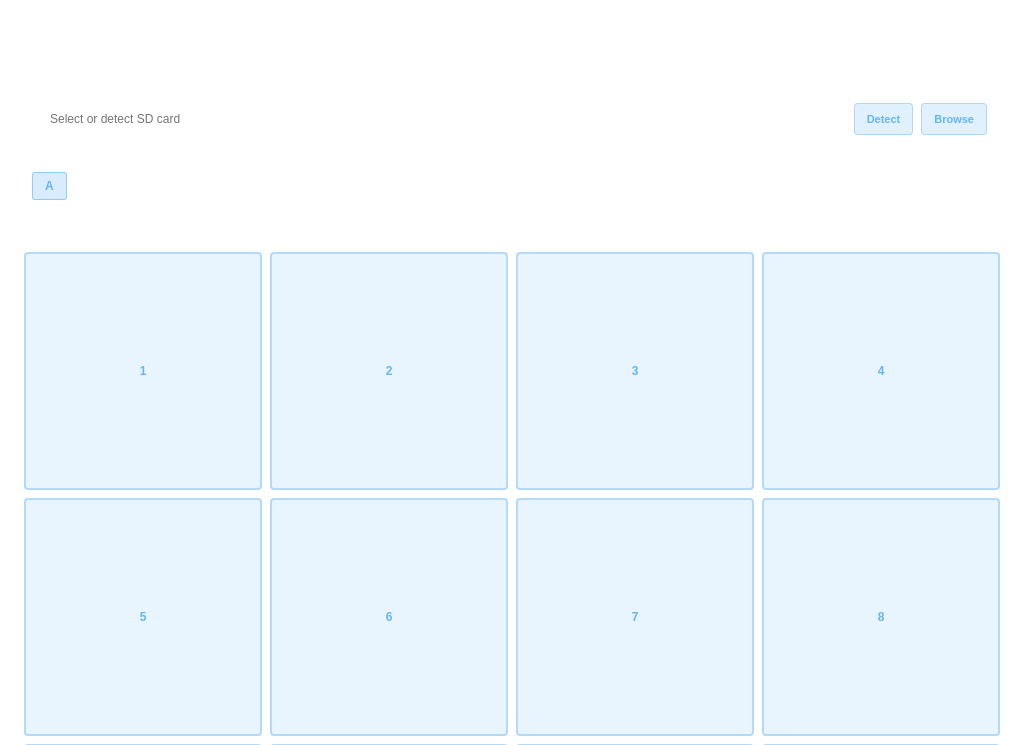
it: SP404KitBuilder Component › Pad Interactions › clicking asset in picker assigns sample to pad
What coordinates should you click on to do the following:
click the button with test id "pad-A-1"
I would click on:
 (143, 371)
Its box is [24,252,262,490].
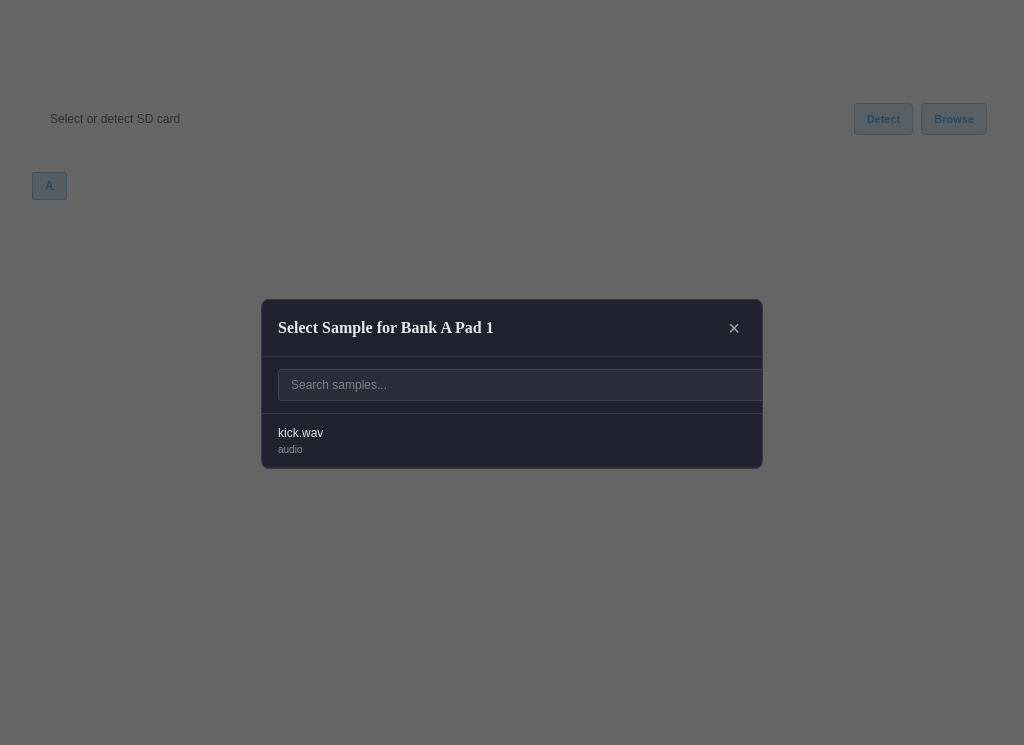
What coordinates should you click on to do the following:
click the button with class "sample-item"
I would click on:
 (301, 433)
Its box is [262,414,762,468].
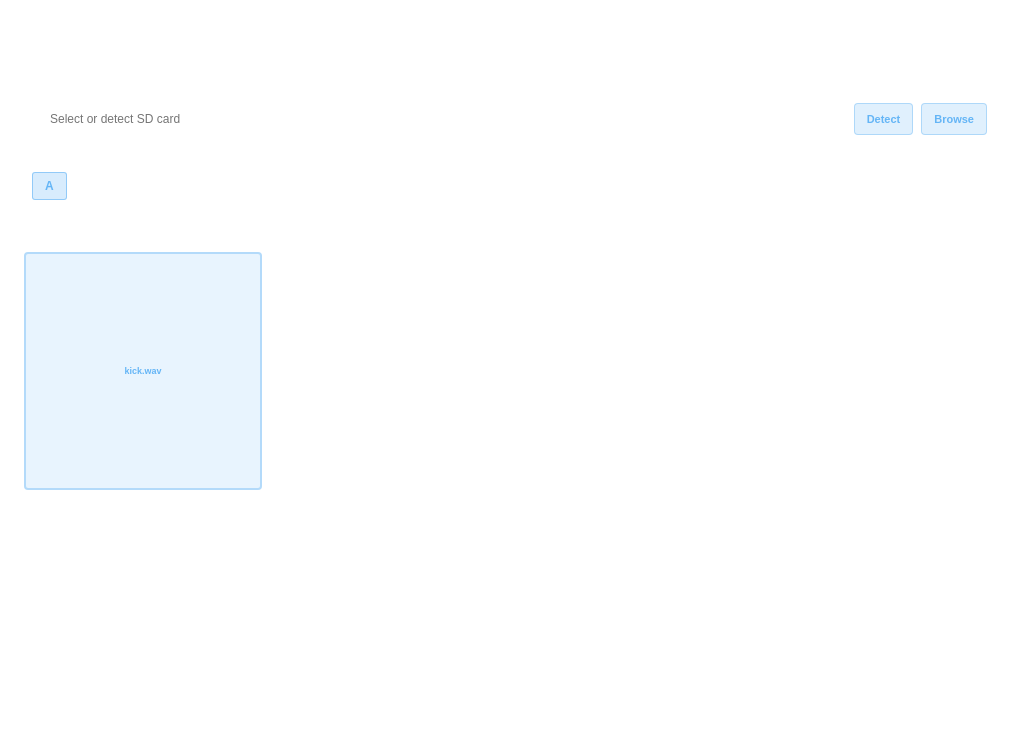
expect the button with test id "pad-A-1" reads "kick.wav": met, box [24,252,262,490]
